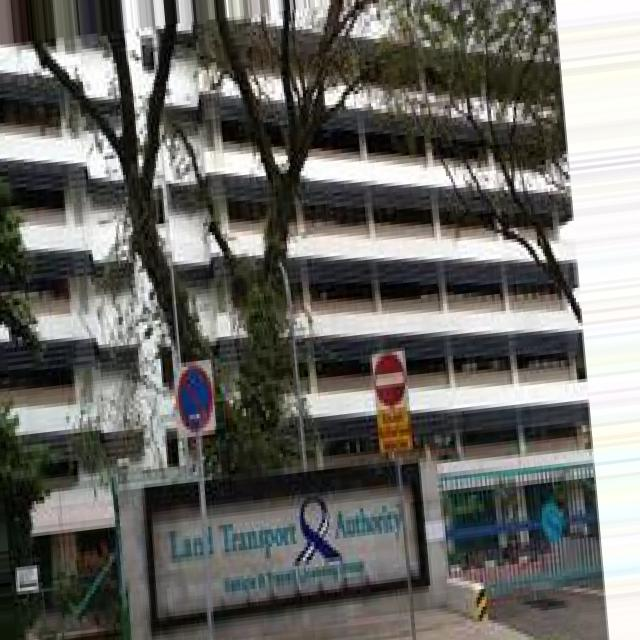forb_stopping: (178, 366, 214, 432)
